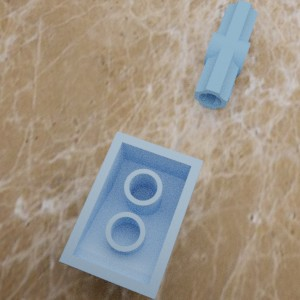lego: (58, 131, 203, 299), (193, 0, 258, 109)
